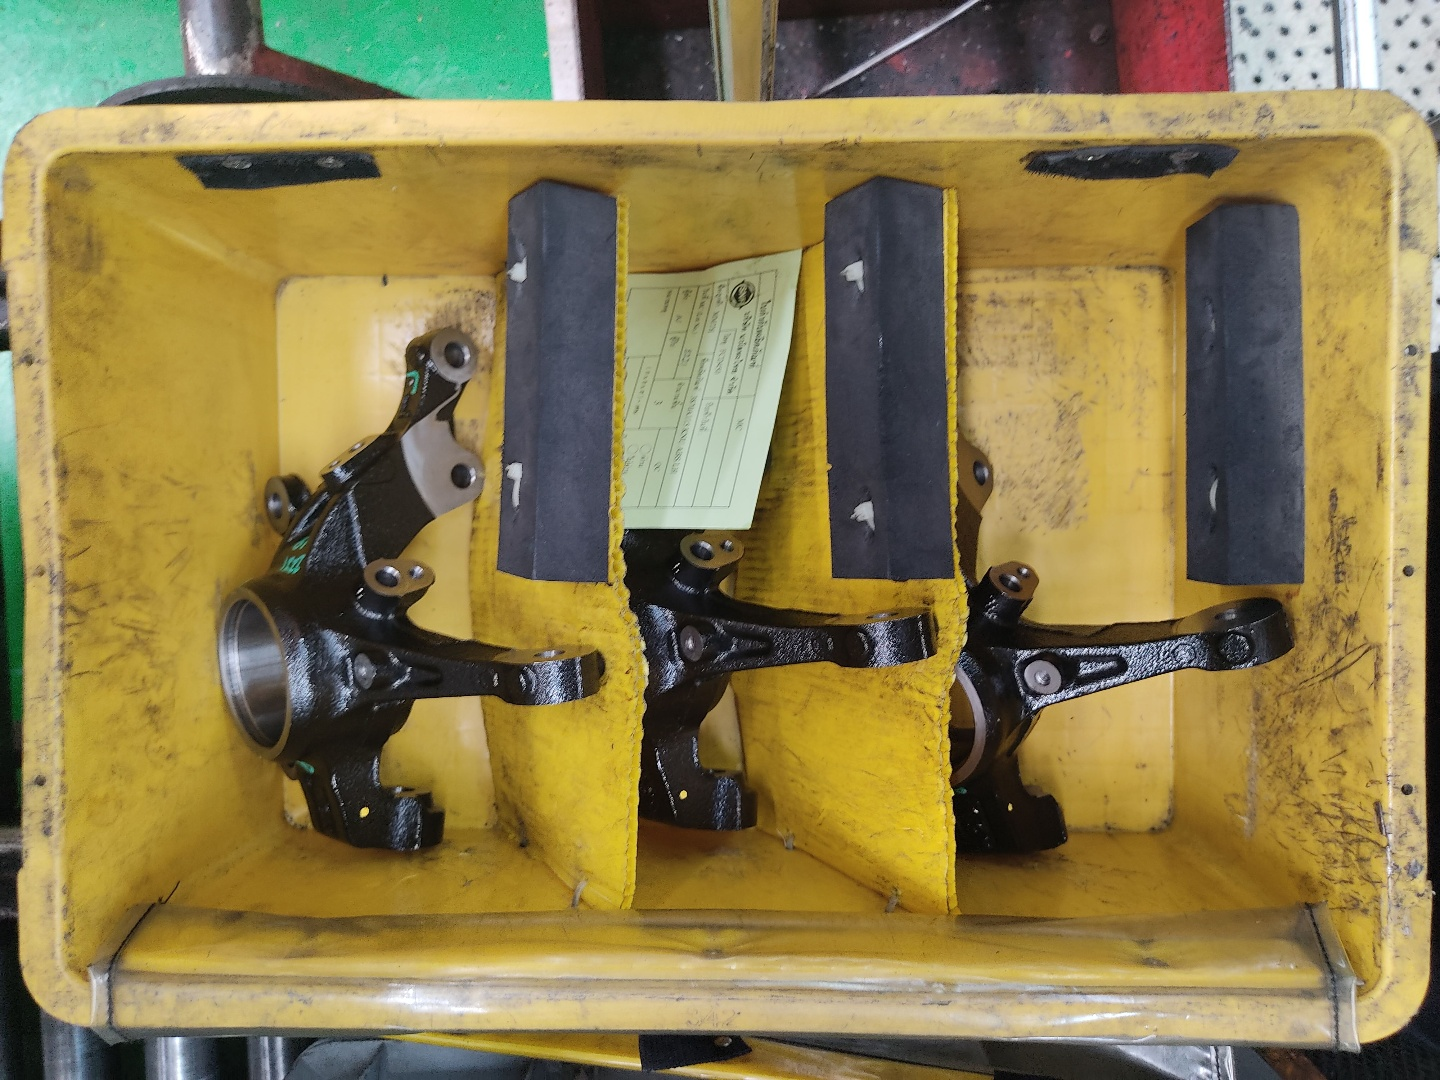abs-lh: (212, 317, 604, 864), (943, 338, 1306, 874), (611, 313, 949, 852)
